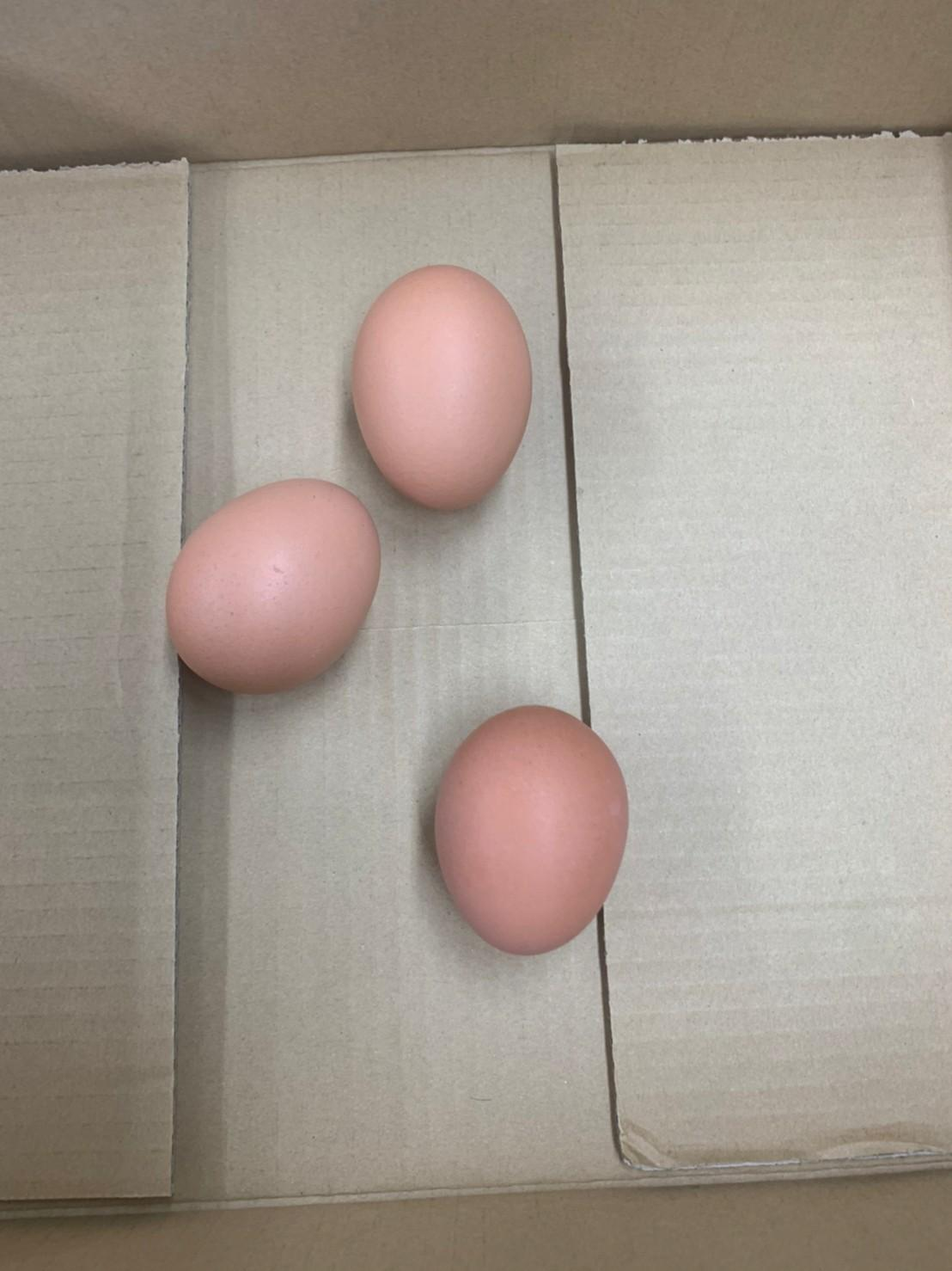egg: (348, 256, 543, 516), (153, 471, 380, 694), (433, 698, 629, 955)
